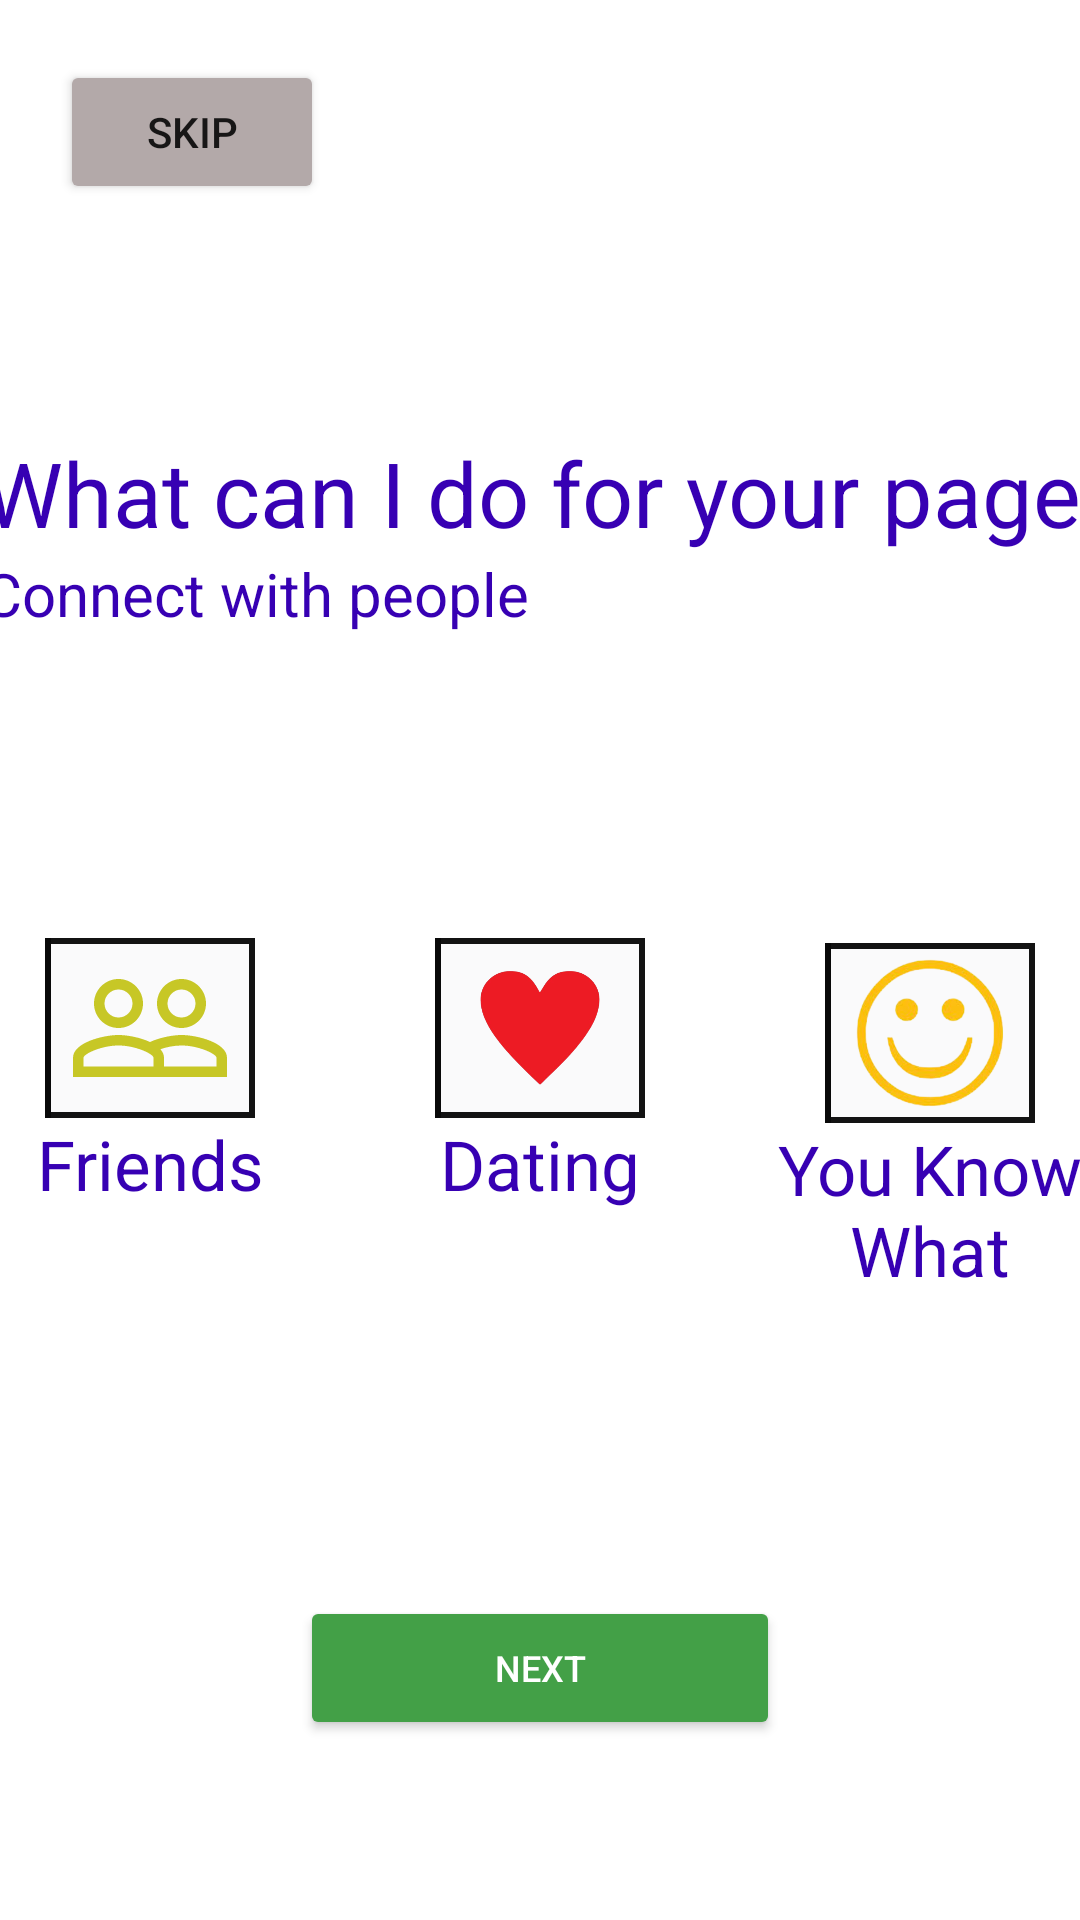

Named icons in this screenshot (1080w x 1920h) and their bounding boxes, (x1, y1, x2, y2):
heart: (435, 938, 645, 1118)
people: (45, 938, 255, 1118)
smile: (825, 943, 1035, 1123)
